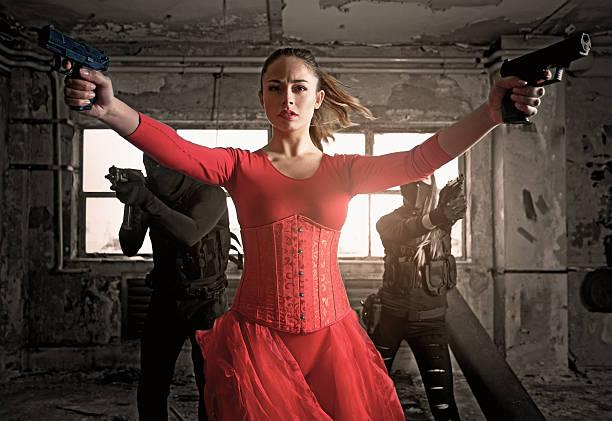weapon: (484, 31, 598, 126), (37, 24, 107, 105), (102, 161, 148, 229), (437, 176, 471, 213)
